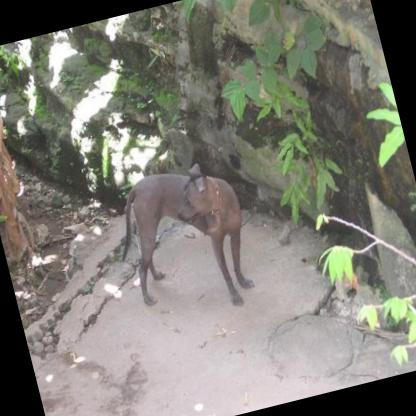Mexican_hairless: (103, 153, 264, 330)
